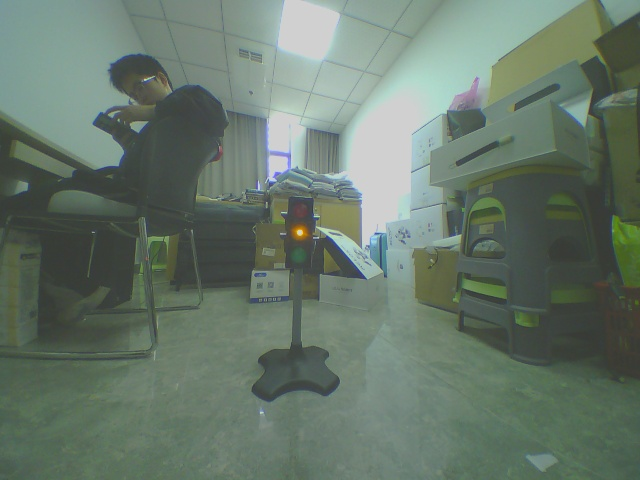Yellow: (274, 185, 325, 281)
